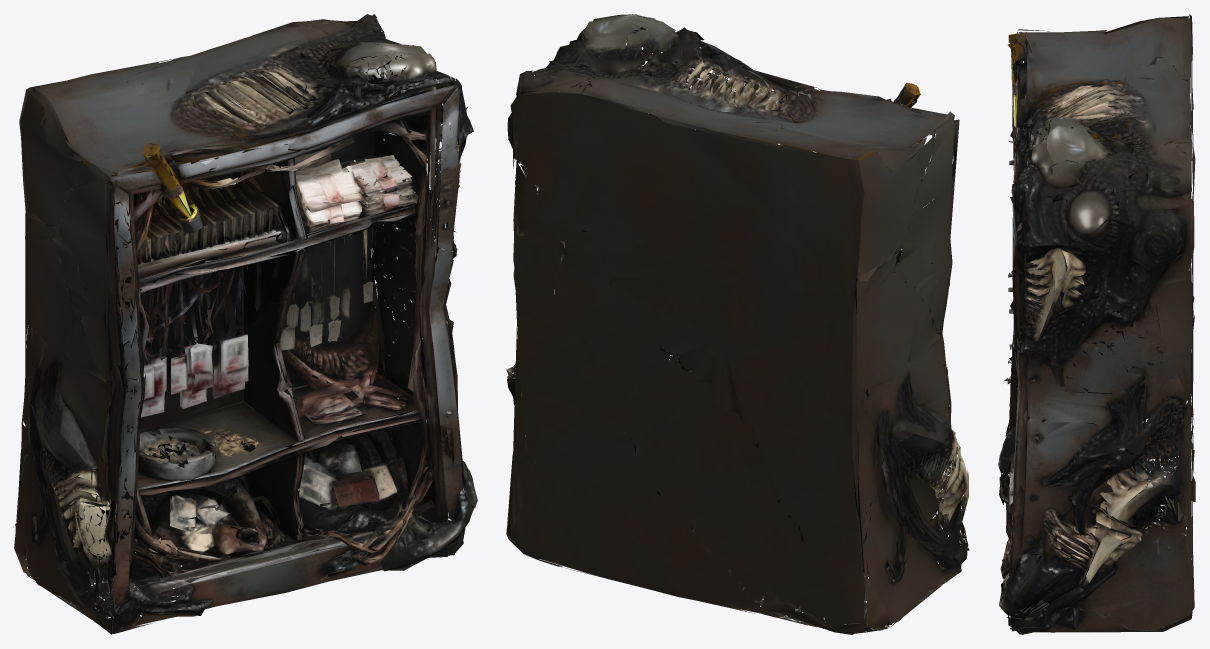
The model's file is tina_trophy_trove.glb.
3 renders of one model, left to right at view 1: azimuth 30°, elevation 25°; view 2: azimuth 150°, elevation 25°; view 3: azimuth 270°, elevation 25°, orthographic. The views are drawn at different scales.
Parts seen in each view (by area): view 1: node_0; view 2: node_0; view 3: node_0.
Boxes of the visible parts, <box> form: node_0: <box>14,14,477,634</box>; node_0: <box>506,14,969,634</box>; node_0: <box>998,14,1195,634</box>.
Size of the model in its own units: 0.796 by 0.949 by 0.3517.
1 material, 1 textured.
